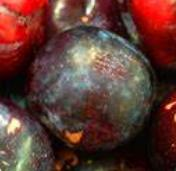plum_B: (25, 26, 157, 156)
